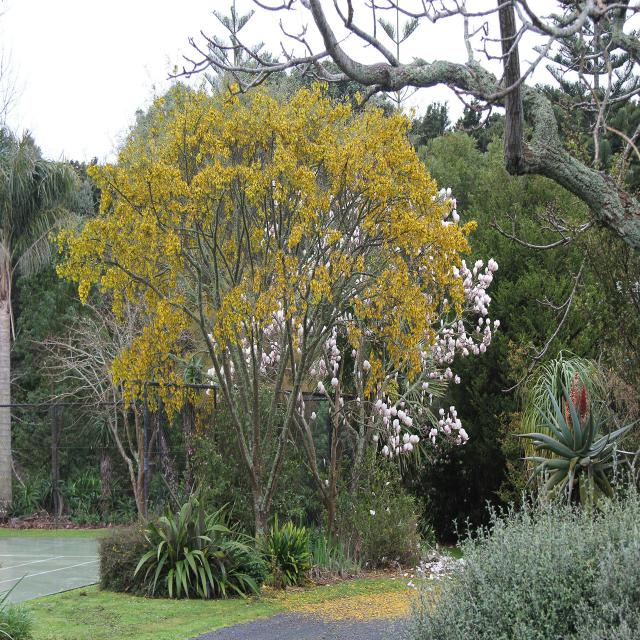Kowhai: (50, 89, 439, 548)
